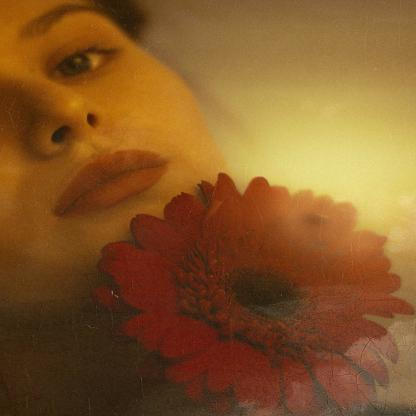Eye: (43, 41, 114, 81)
Mouth: (62, 147, 182, 209)
Nose: (5, 72, 111, 155)
